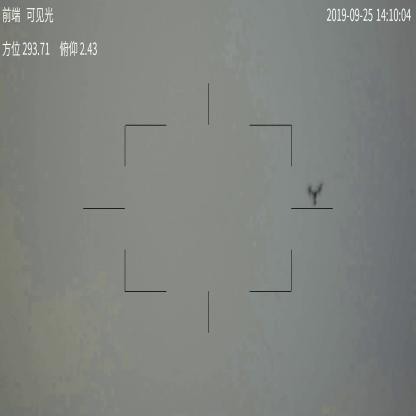uav: (305, 180, 324, 207)
